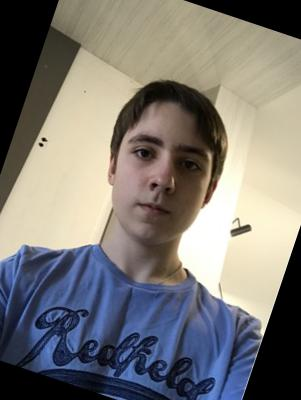without_mask: (95, 119, 222, 259)
